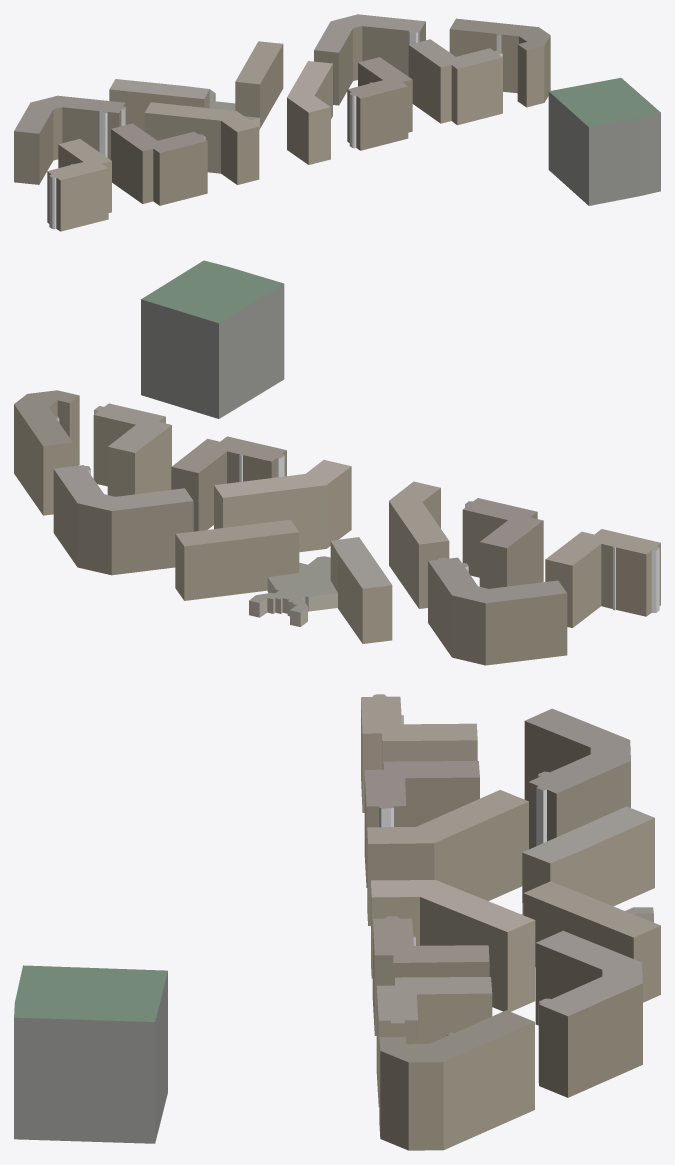
The picture shows the model from 3 angles, top to bottom: view 1: azimuth 30°, elevation 25°; view 2: azimuth 150°, elevation 25°; view 3: azimuth 270°, elevation 25°; orthographic projection. The views are drawn at different scales.
Parts seen in each view (by area): view 1: tuile; view 2: tuile; view 3: tuile.
Boxes of the visible parts, bbox=[...] form: tuile: bbox=[14, 14, 660, 231]; tuile: bbox=[14, 260, 660, 665]; tuile: bbox=[14, 694, 660, 1150].
Size of the model in its own units: 230 by 35.54 by 164.
